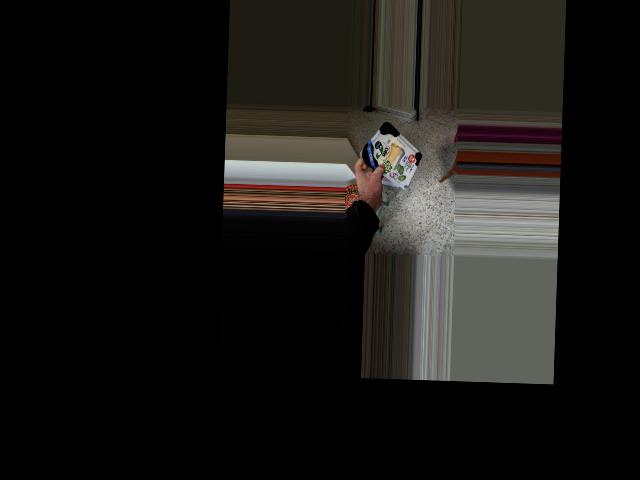cheese: (357, 122, 429, 185)
